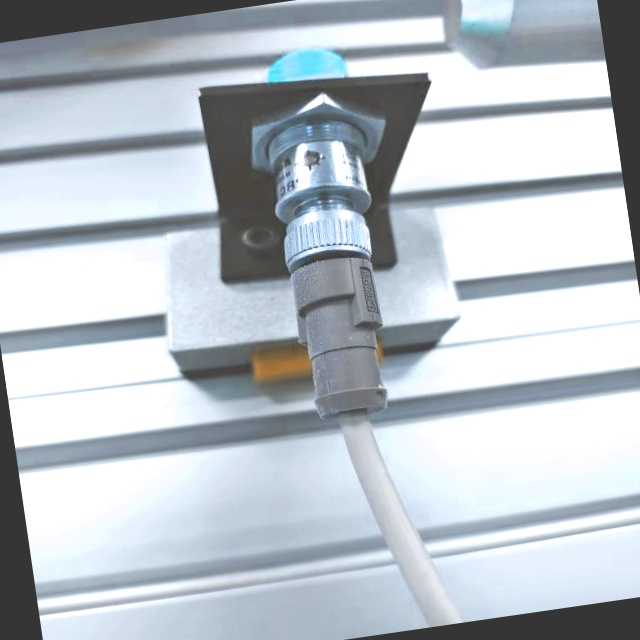inductive sensor: (112, 18, 495, 447)
